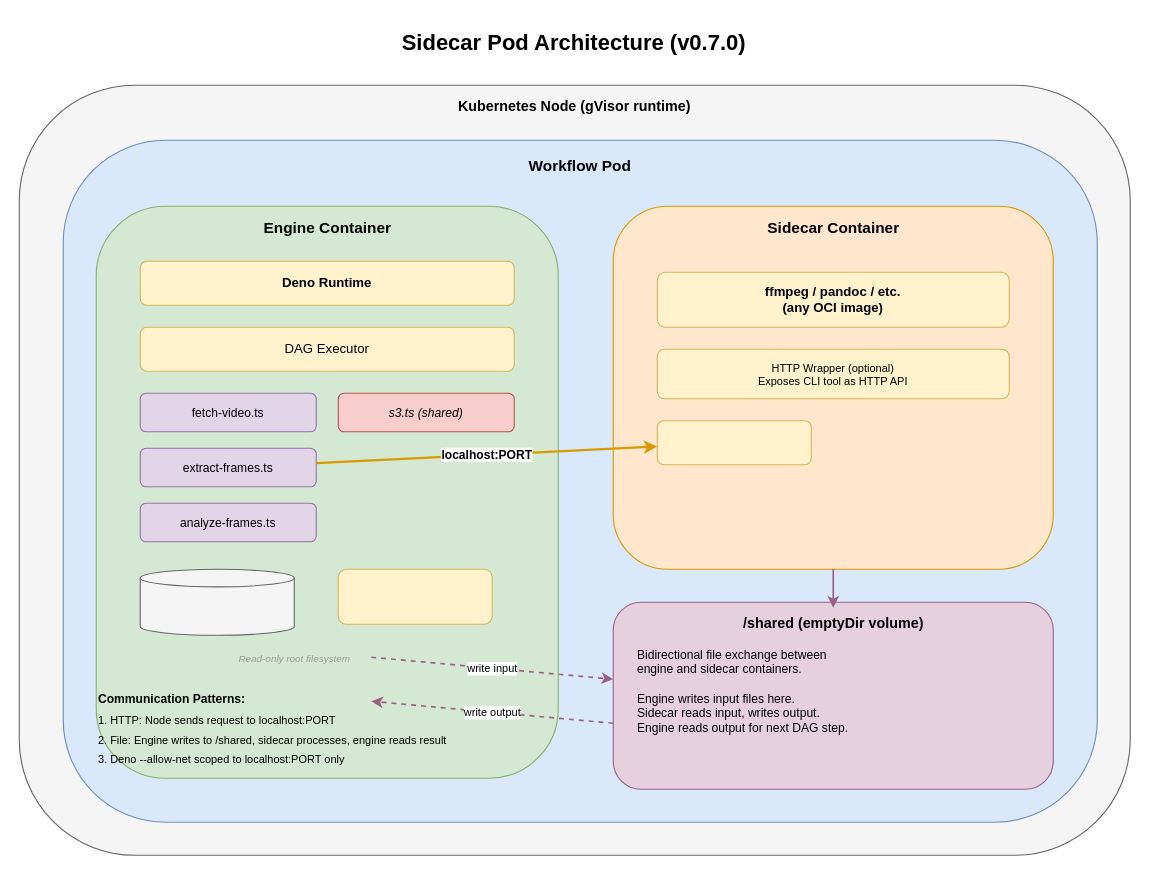
Some shapes in this 1150 by 875 pixel diagram are drawn without their labels. Each missing label, with the centre of its shape:
/app/workflow/ (ConfigMap volume): the point at 216,601
:8080 /run /health: the point at 414,596
:PORT (e.g. 8081): the point at 733,442
